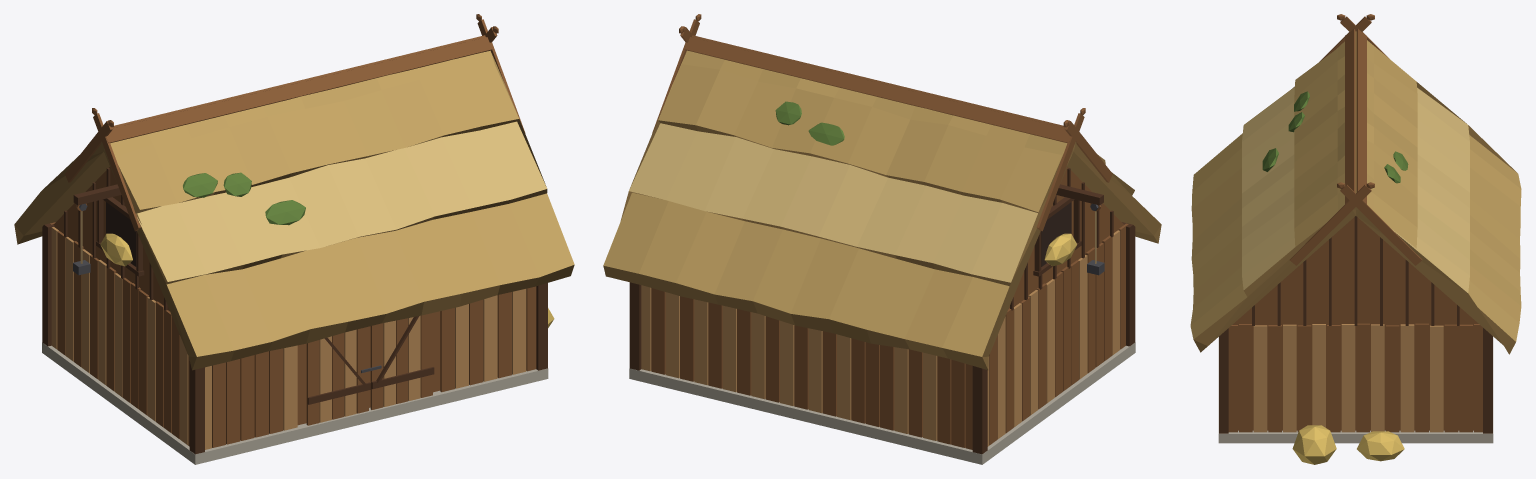
File: Dorf_Scheune.fbx
3 views of the same model, side by side, from view 1: azimuth 30°, elevation 25°; view 2: azimuth 150°, elevation 25°; view 3: azimuth 270°, elevation 25° (orthographic). The views are drawn at different scales.
Visible parts, largest first — view 1: Dorf_Scheune; view 2: Dorf_Scheune; view 3: Dorf_Scheune.
Part boxes in pixels (box(x1,y1,x2,y2)): Dorf_Scheune: box(14, 14, 574, 464); Dorf_Scheune: box(603, 14, 1161, 464); Dorf_Scheune: box(1190, 14, 1521, 464).
Bounding box in the file's own units: 11.29 × 7.17 × 8.02.
